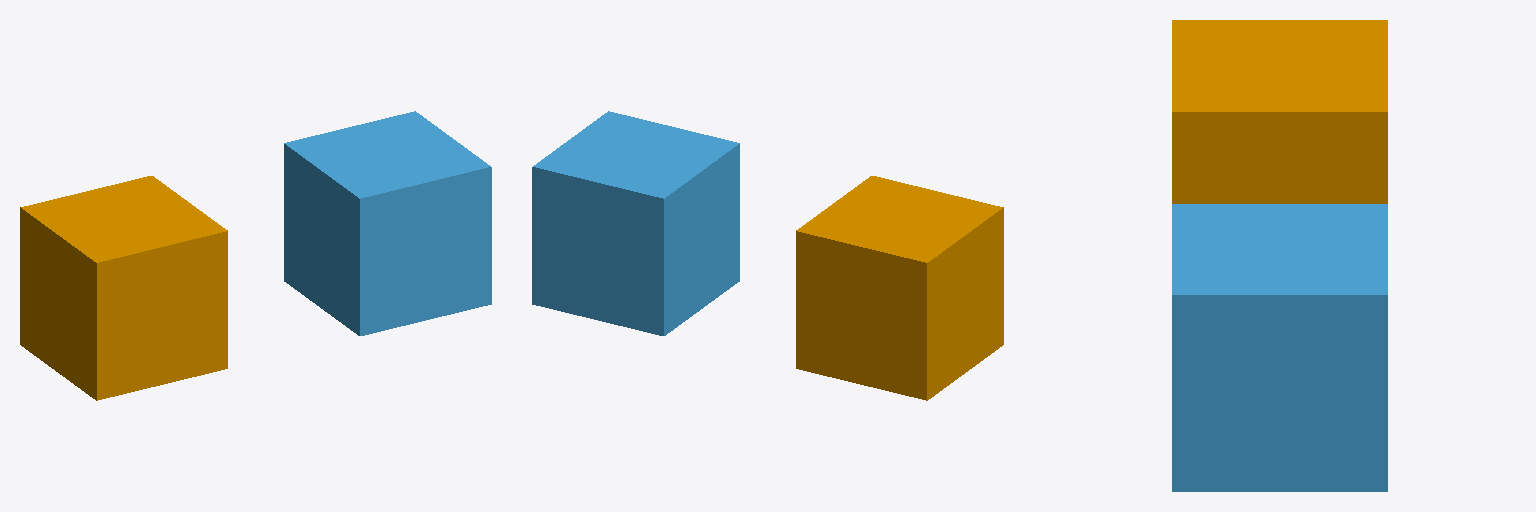
URDF robot description (test_displayname):
<?xml version="1.0"?>
<!-- Using characters other than alphanumeric characters and '_' -->
<robot name="test_displayname">
  <material name="material:red">
    <color rgba="1.0 0.0 0.0 1.0"/>
  </material>
  <link name="link-box">
    <visual>
      <geometry>
        <box size="0.5 0.5 0.5"/>
      </geometry>
    </visual>
  </link>
  <link name="link-box2">
    <visual>
      <geometry>
        <box size="0.5 0.5 0.5"/>
      </geometry>
    </visual>
  </link>
  <link name="link-mesh_obj">
    <visual>
      <geometry>
        <!-- Contains "Cube:Red" and "Cube:Green" as meshes. -->
        <mesh filename="assets/name_test.obj" scale="0.5 0.5 0.5"/>
      </geometry>
      <material name="material:red"/>
    </visual>
  </link>
  <link name="link-mesh_dae">
    <visual>
      <geometry>
        <!-- The node name is "Cube:1". -->
        <mesh filename="assets/name_test.dae" scale="0.5 0.5 0.5"/>
      </geometry>
    </visual>
  </link>

  <joint name="joint:root" type="fixed">
    <origin rpy="0 0 0" xyz="1 0 0"/>
    <parent link="link-box"/>
    <child link="link-box2"/>
  </joint>
  <joint name="mesh_obj" type="fixed">
    <origin rpy="0 0 0" xyz="1 0 0"/>
    <parent link="link-box2"/>
    <child link="link-mesh_obj"/>
  </joint>
  <joint name="mesh_dae" type="fixed">
    <origin rpy="0 0 0" xyz="0 1 0"/>
    <parent link="link-box2"/>
    <child link="link-mesh_dae"/>
  </joint>

</robot>

--- Facts derived from the render (not from the file) ---
3 views of the same robot in one strip: view 1: azimuth 30°, elevation 25°; view 2: azimuth 150°, elevation 25°; view 3: azimuth 270°, elevation 25° (orthographic).
Robot: test_displayname — 4 links, 3 joints (3 fixed); root link link-box; default pose: all joints at 0.
Links seen in each view (by area): view 1: link-box, link-box2; view 2: link-box, link-box2; view 3: link-box2, link-box.
Link boxes in pixels (x1,y1,x2,y2): link-box: (20, 176, 227, 400); link-box2: (284, 111, 491, 335); link-box: (796, 176, 1003, 400); link-box2: (532, 111, 739, 335); link-box2: (1172, 204, 1387, 491); link-box: (1172, 20, 1387, 203).
Size in the robot's own frame: 1.5 by 0.5 by 0.5 metres.
Meshes: 2 distinct files referenced, 0 mesh visuals loaded (none loaded); not drawn: 2 (reference not matched to a file when rendering).